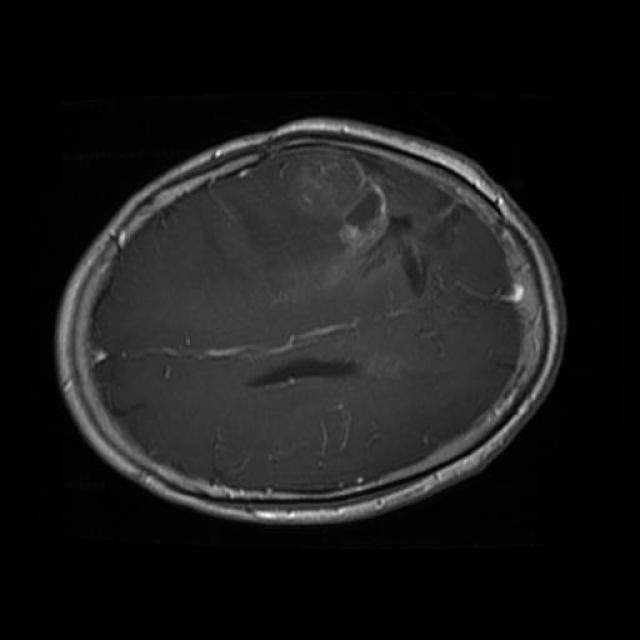Glioma: (298, 152, 411, 271)
